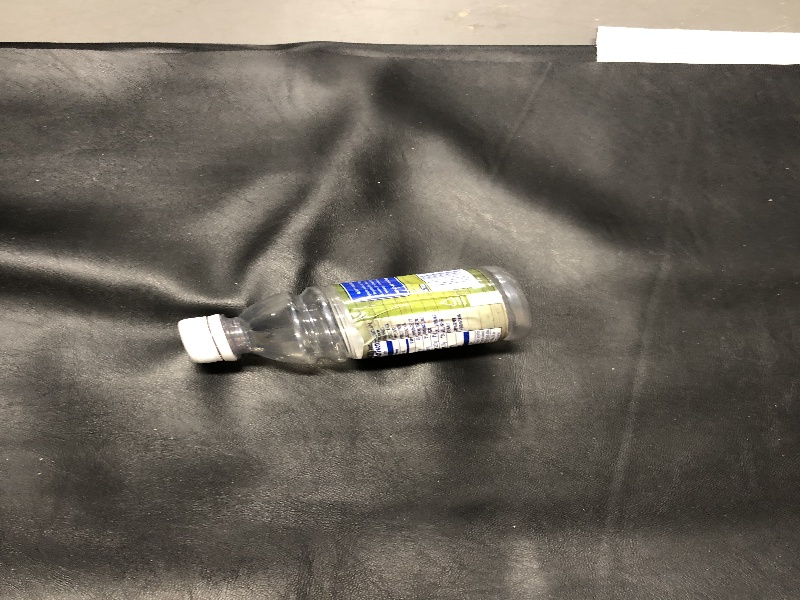plastic: (161, 254, 544, 373)
